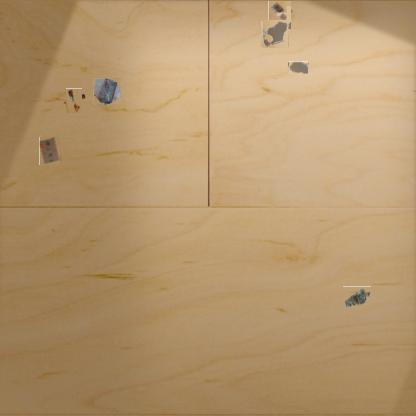dirty: (266, 1, 293, 28), (93, 78, 121, 104), (343, 286, 371, 309), (39, 137, 60, 165), (64, 90, 85, 111)
liquid: (262, 20, 288, 48), (288, 61, 308, 74)
